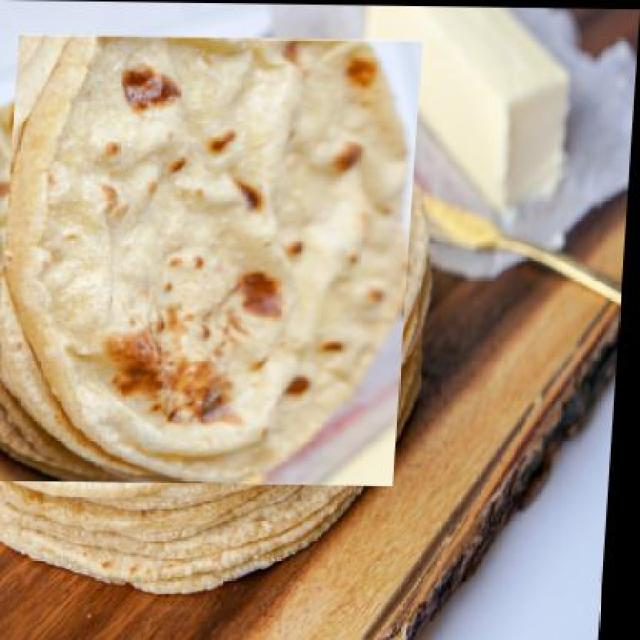chapati: (0, 43, 435, 476)
